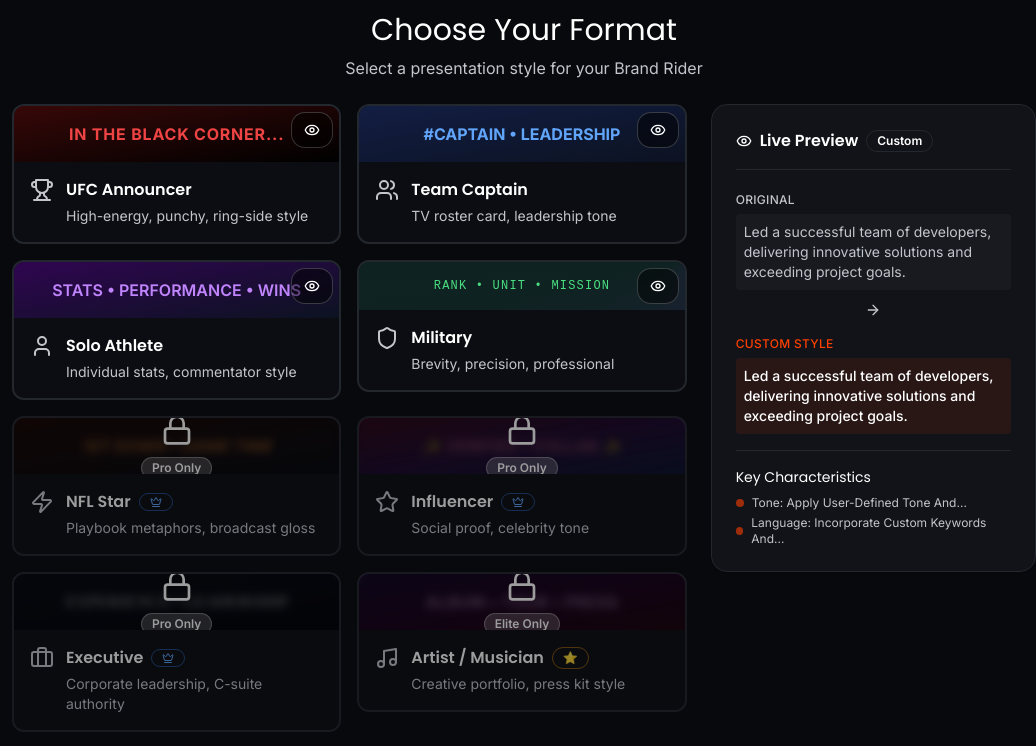
it: FormatStep › updates live preview when hovering over formats
This screenshot has width=1036, height=746.
# Hover over the card
Hover over the radio button "UFC Announcer" at (177, 174), box [12, 104, 341, 244]
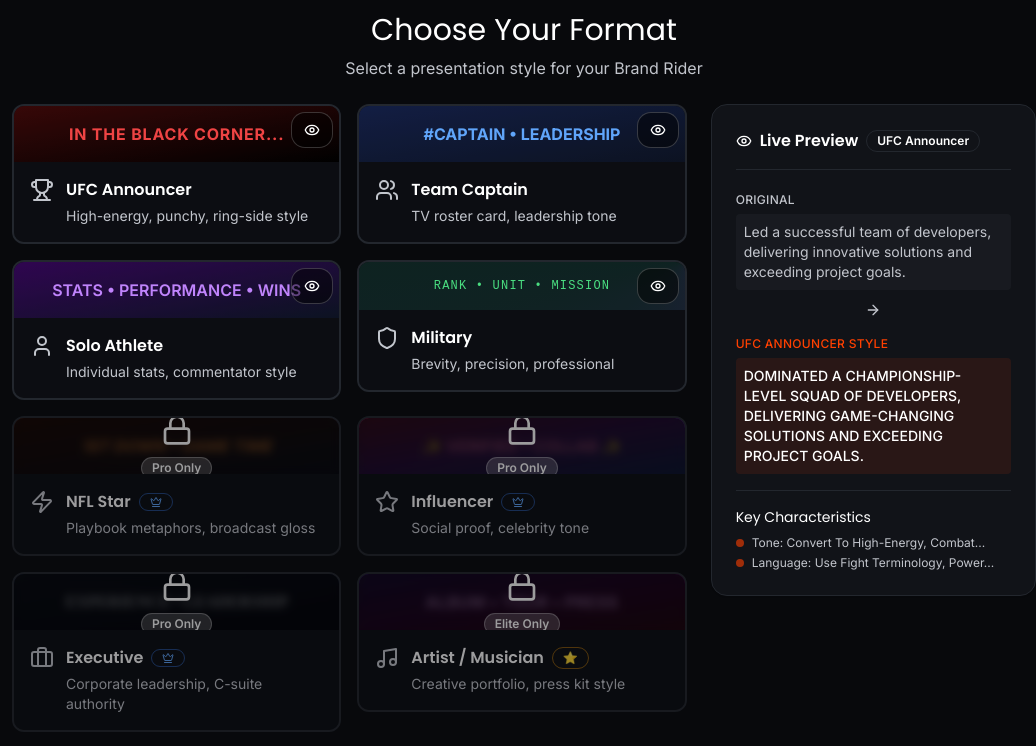
Now the text "UFC Announcer Style" is shown, box [736, 336, 888, 351]
